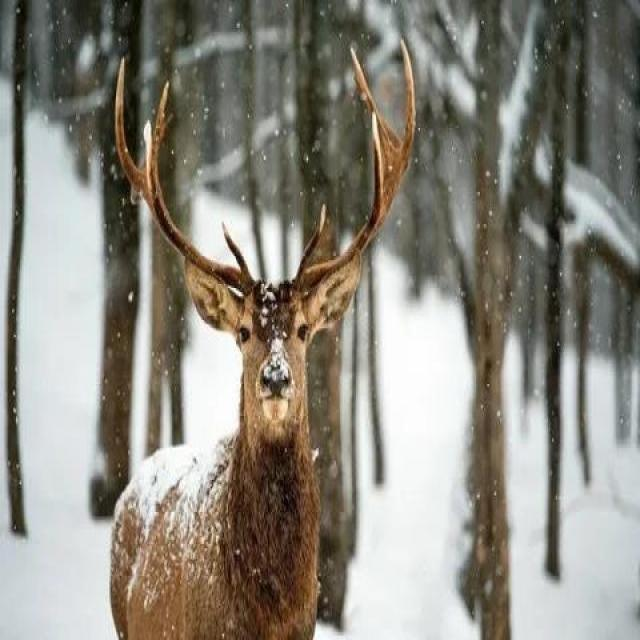deer: (61, 61, 433, 635)
